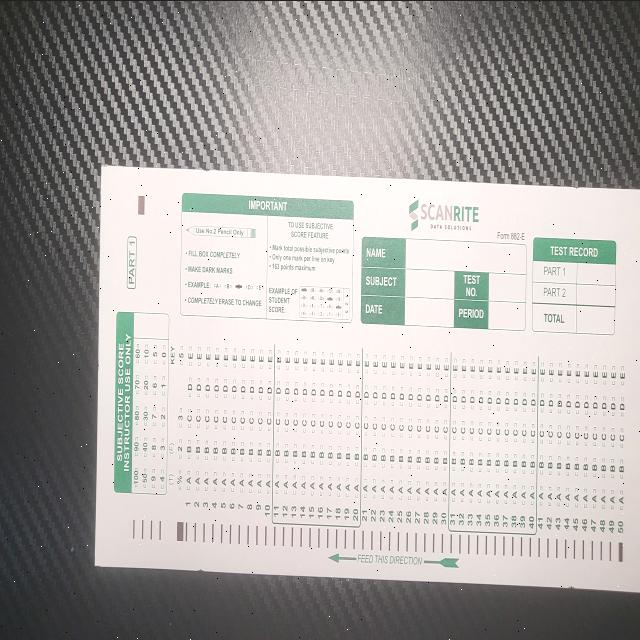scantron: (94, 164, 640, 592)
